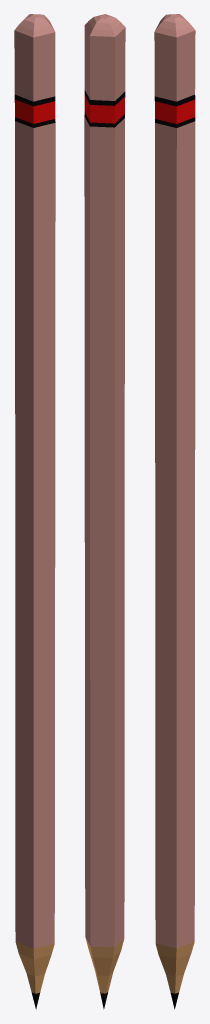
The model's file is pencil.fbx.
3 views of the same model, side by side, from view 1: azimuth 30°, elevation 25°; view 2: azimuth 210°, elevation 25°; view 3: azimuth 330°, elevation 25° (orthographic).
Parts seen in each view (by area): view 1: Cylinder.001; view 2: Cylinder.001; view 3: Cylinder.001.
Boxes of the visible parts, x1,y1,x2,y2 form: Cylinder.001: [14, 14, 55, 1009]; Cylinder.001: [84, 14, 125, 1009]; Cylinder.001: [154, 14, 195, 1009].
Bounding box in the file's own units: 15.02 × 399 × 14.28.
